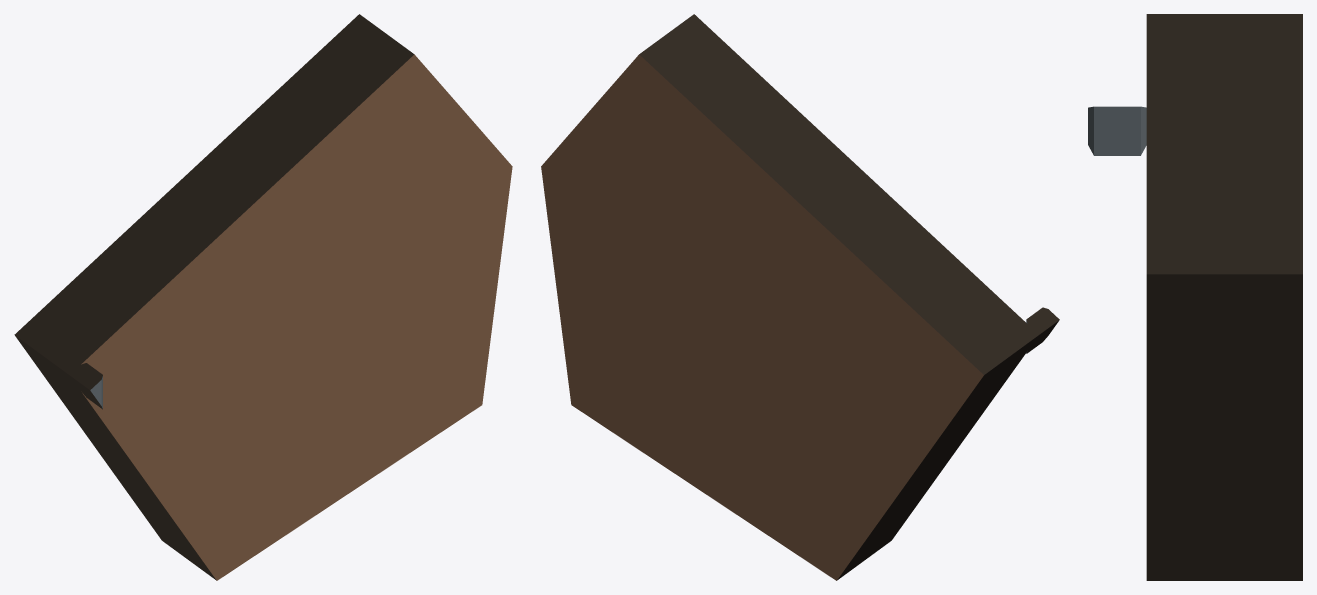
File: SM_DoorShard_03_65.fbx
The picture shows the model from 3 angles, left to right: view 1: azimuth 30°, elevation 25°; view 2: azimuth 150°, elevation 25°; view 3: azimuth 270°, elevation 25°; orthographic projection. The views are drawn at different scales.
Parts seen in each view (by area): view 1: SM_DoorShard_03_65; view 2: SM_DoorShard_03_65; view 3: SM_DoorShard_03_65.
Boxes of the visible parts, x1=… form: SM_DoorShard_03_65: x1=14, y1=14, x2=512, y2=580; SM_DoorShard_03_65: x1=541, y1=14, x2=1059, y2=580; SM_DoorShard_03_65: x1=1088, y1=14, x2=1302, y2=580.
Bounding box in the file's own units: 74.24 × 22 × 76.61.
